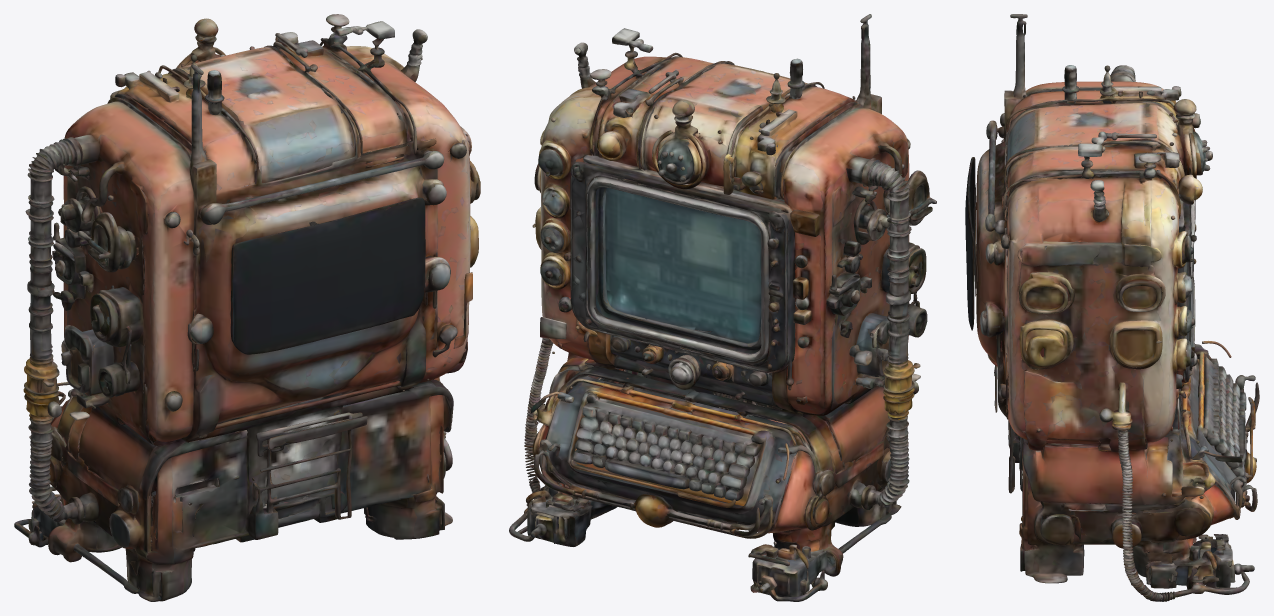
Rendered from keyboard-preview.glb.
3 views of the same model, side by side, from view 1: azimuth 30°, elevation 25°; view 2: azimuth 150°, elevation 25°; view 3: azimuth 270°, elevation 25° (orthographic). The views are drawn at different scales.
Parts seen in each view (by area): view 1: geometry_0; view 2: geometry_0; view 3: geometry_0.
Boxes of the visible parts, x1=… form: geometry_0: x1=14, y1=14, x2=480, y2=601; geometry_0: x1=509, y1=14, x2=936, y2=601; geometry_0: x1=965, y1=14, x2=1259, y2=601.
Bounding box in the file's own units: 0.7298 × 0.9028 × 0.5104.
Materials: 1 (1 with a texture image).
